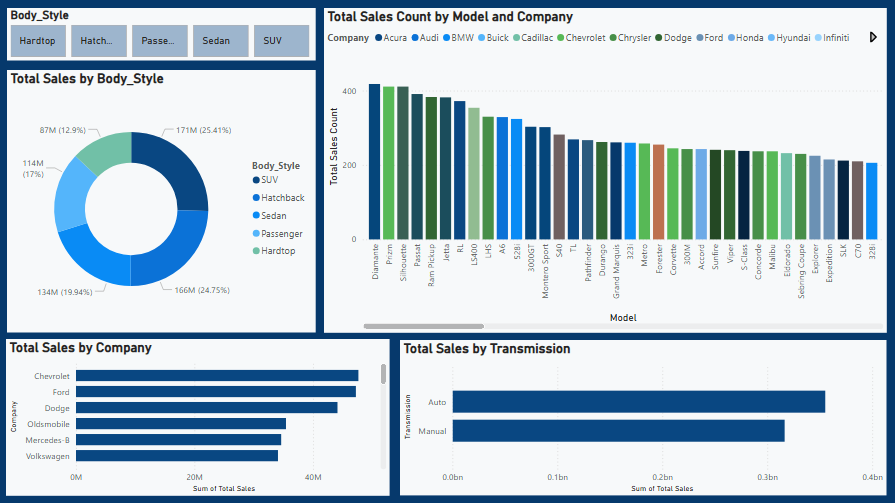

This screenshot's page, from the dashboard's own definition file:
{"tool":"powerbi","page":{"name":"Car Analysis","canvas":[1280,720],"ordinal":2},"visuals":[{"type":"donutChart","fields":{"Category":["Dim_Car.Body_Style"],"Y":["Sum(Fact_Sales.Price)"]},"box":[10.7,99.5,441,375.1],"z":0},{"type":"barChart","fields":{"Category":["Dim_Car.Company"],"Y":["Sum(Fact_Sales.Price)"]},"box":[11,485,548,235],"z":1000},{"type":"columnChart","fields":{"Category":["Dim_Car.Model"],"Y":["Fact_Sales.Total Sales Count"],"Series":["Dim_Car.Company"]},"box":[463.9,10.7,803.8,463.9],"z":2000},{"type":"barChart","fields":{"Category":["Dim_Car.Transmission"],"Y":["Sum(Fact_Sales.Total Sales)"]},"box":[572.6,485.4,695.1,234.3],"z":3000},{"type":"advancedSlicerVisual","fields":{"Values":["Dim_Car.Body_Style"]},"box":[10.7,10.7,441,75],"z":4000}]}

Visuals, with their boxes in screenshot pixels (x1, y1, x2, y2), scaled from the page's 1280x720 canvas onto the 895x503 screenshot:
donutChart - Dim_Car.Body_Style x Sum(Fact_Sales.Price): left=7, top=70, right=316, bottom=332
barChart - Dim_Car.Company x Sum(Fact_Sales.Price): left=8, top=339, right=391, bottom=502
columnChart - Dim_Car.Model x Fact_Sales.Total Sales Count: left=324, top=7, right=886, bottom=332
barChart - Dim_Car.Transmission x Sum(Fact_Sales.Total Sales): left=400, top=339, right=886, bottom=502
advancedSlicerVisual - Dim_Car.Body_Style: left=7, top=7, right=316, bottom=60
